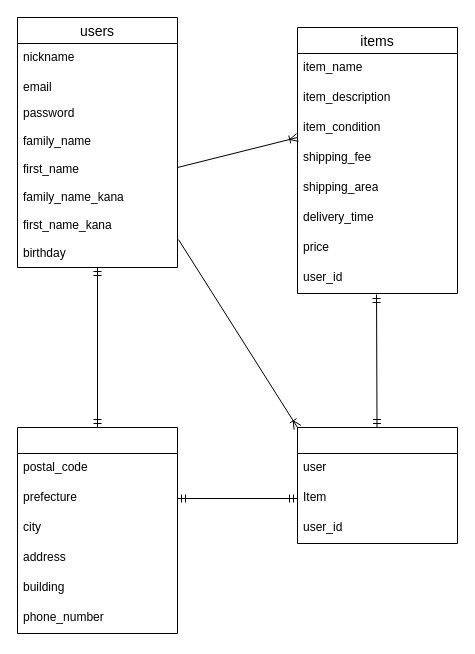
This 475x654 diagram has some shape labels left out. Here are the shapes that lost their labels. From the top down, the box of each, then its label:
(296, 426, 458, 544): orders
(16, 426, 178, 634): shippings
